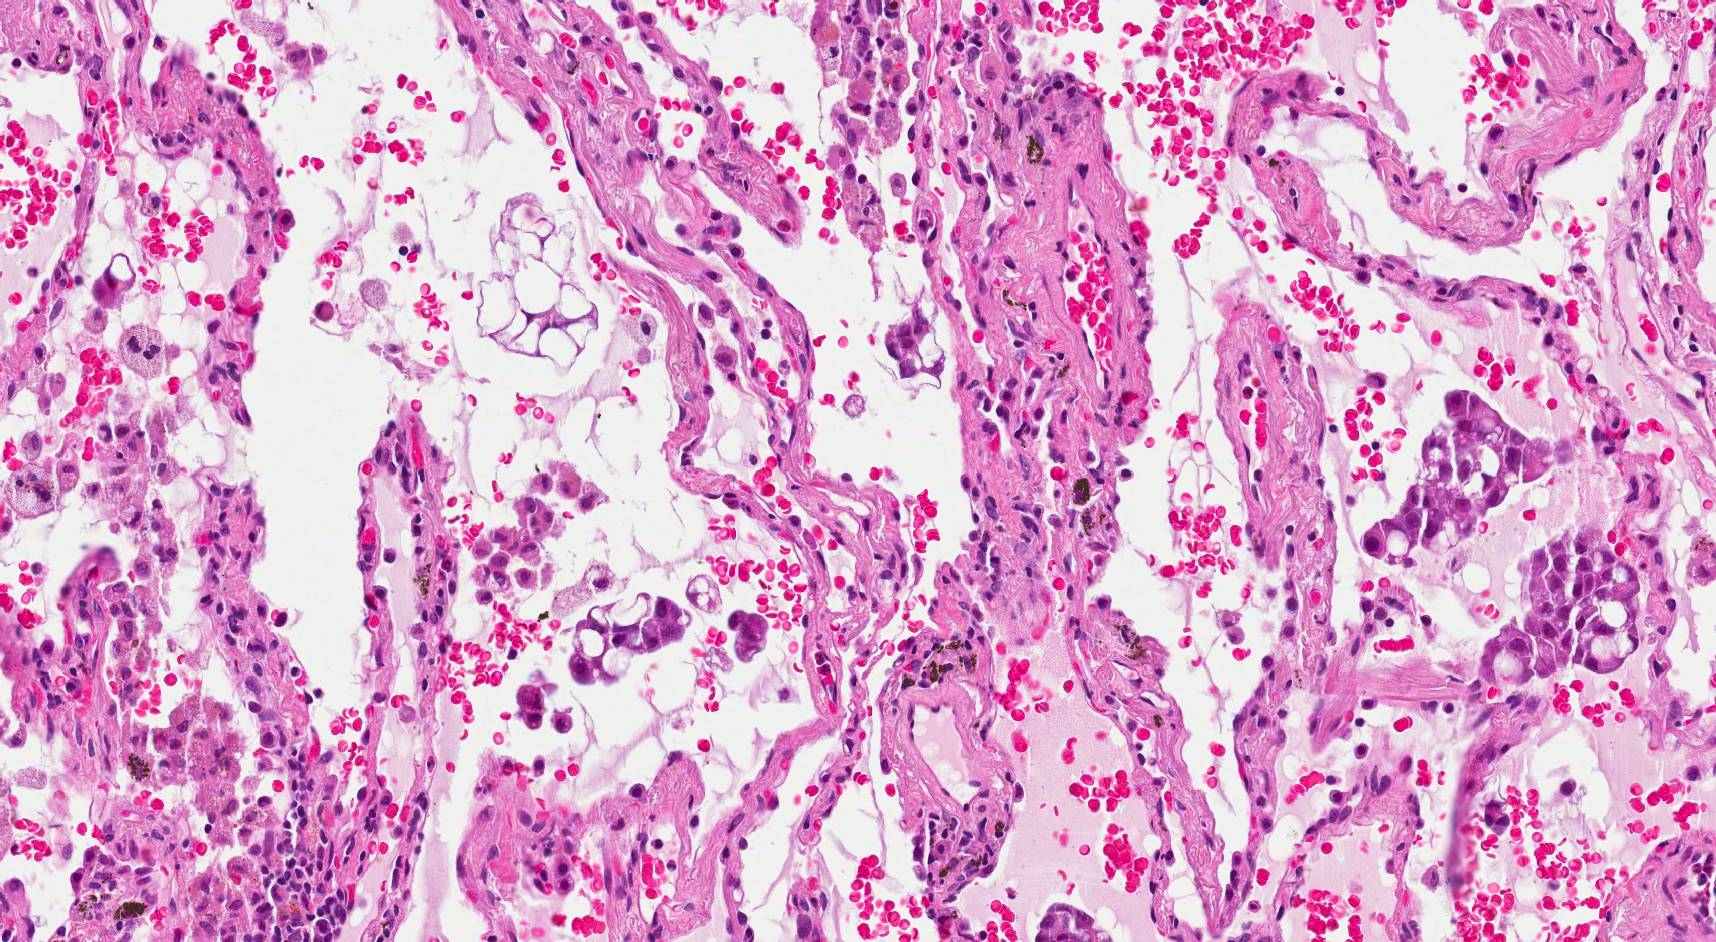stas: (1354, 374, 1560, 572), (1475, 526, 1647, 689), (563, 588, 695, 692), (874, 302, 951, 385), (507, 674, 575, 737), (723, 609, 774, 662), (685, 569, 725, 622)
